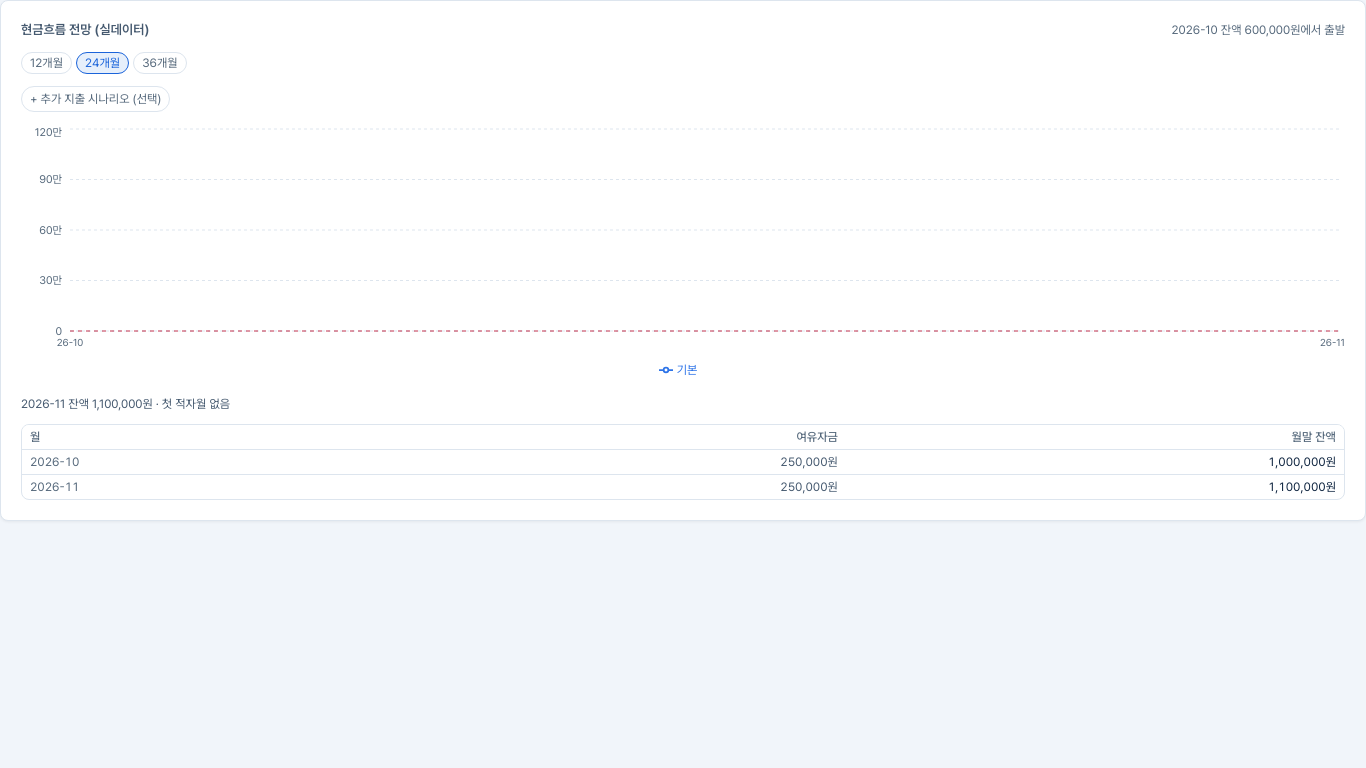
AdvisorProjectionChart › 기간 버튼과 범용 추가 지출 시나리오(이름·금액·개월)가 요청에 실린다
Expected: the text "2026-11 잔액 1,100,000원 · 첫 적자월 없음" is shown, x1=21 y1=397 x2=230 y2=411
Click the button "36개월" at (160, 63), box x1=133 y1=52 x2=187 y2=74
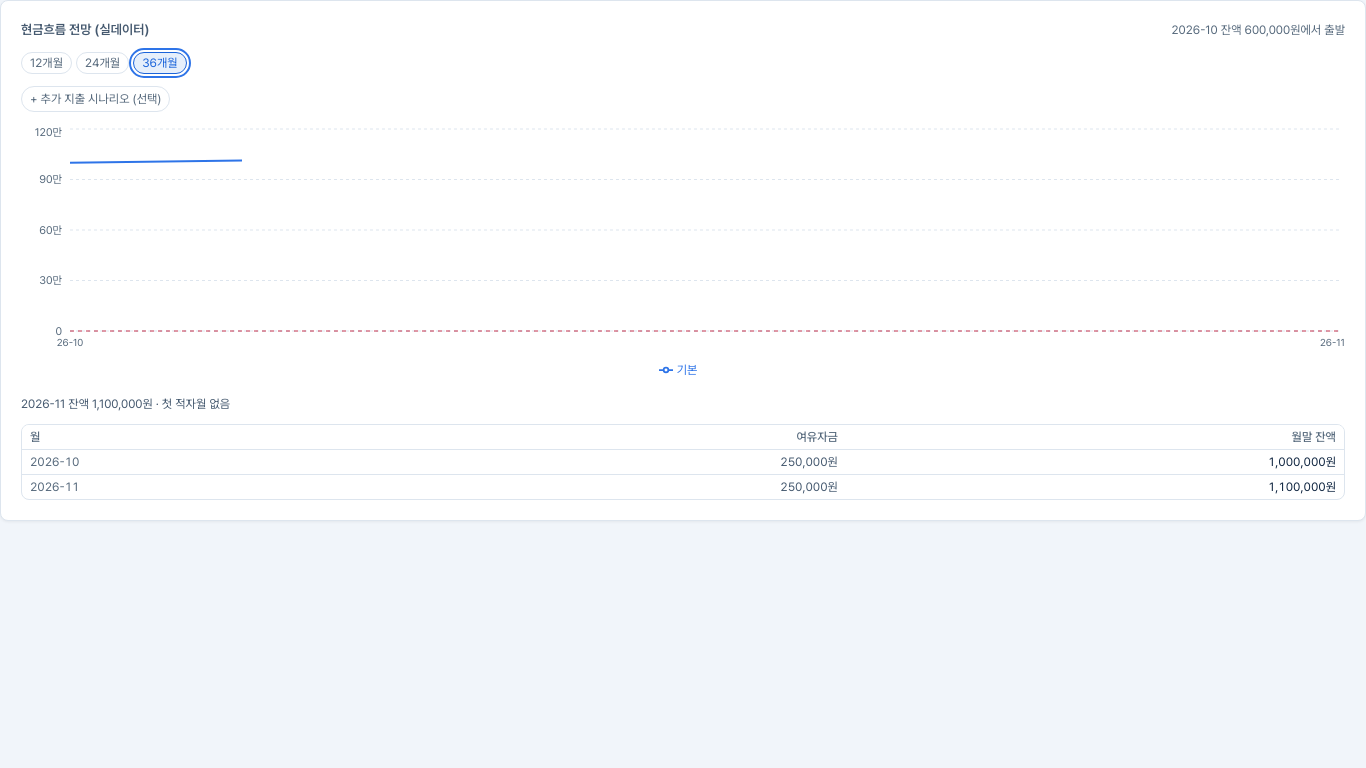
Click the button "+ 추가 지출 시나리오 (선택)" at (96, 99), box x1=21 y1=86 x2=170 y2=112
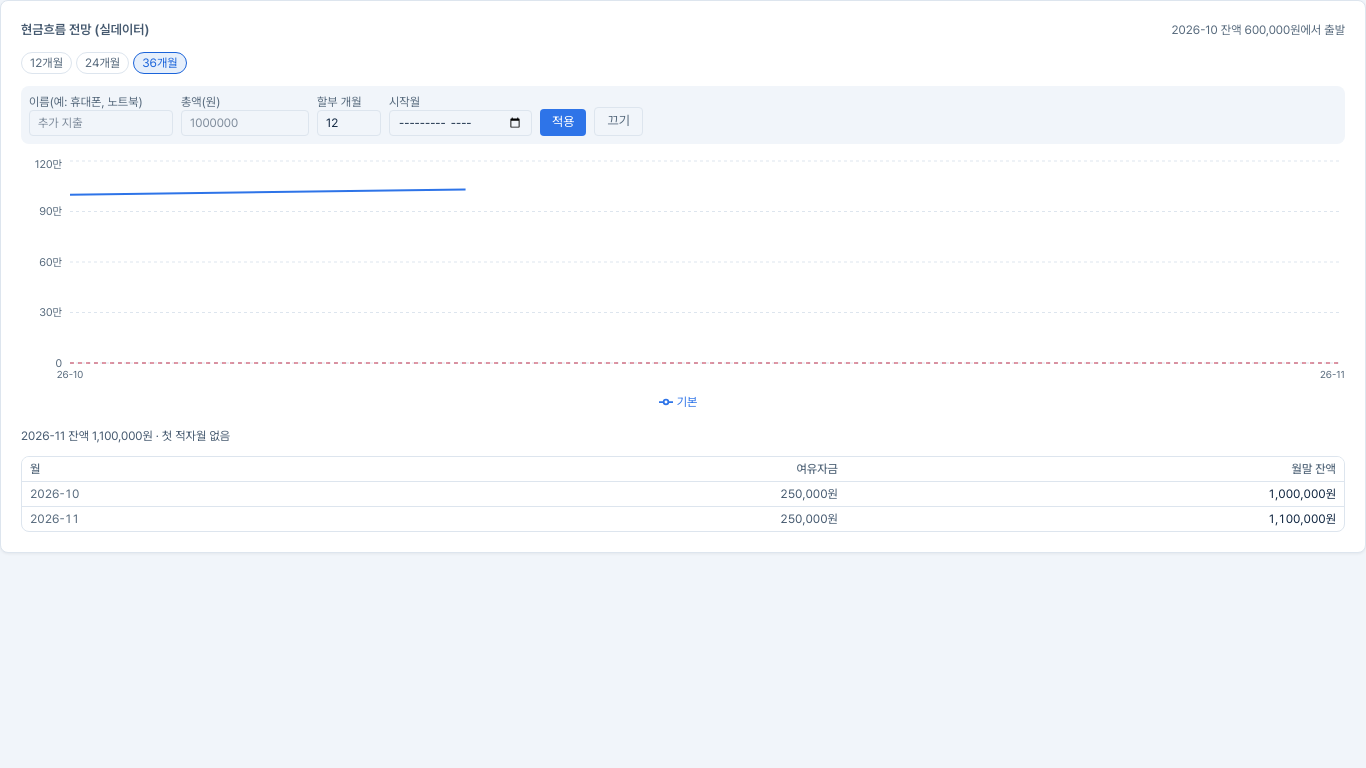
Type "노트북" into the field with placeholder "추가 지출" at (101, 123), box x1=29 y1=110 x2=173 y2=136
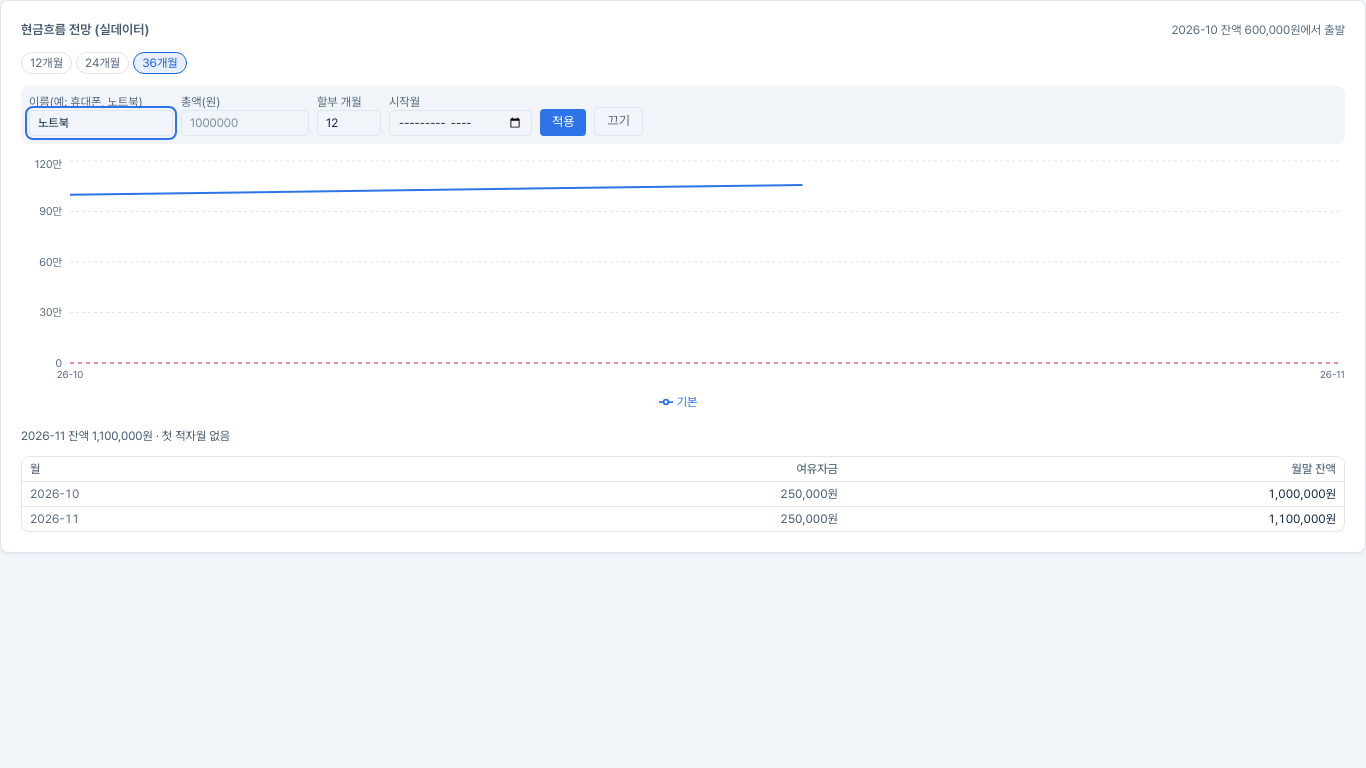
Type "2400000" into the field with placeholder "1000000" at (245, 123), box x1=181 y1=110 x2=309 y2=136
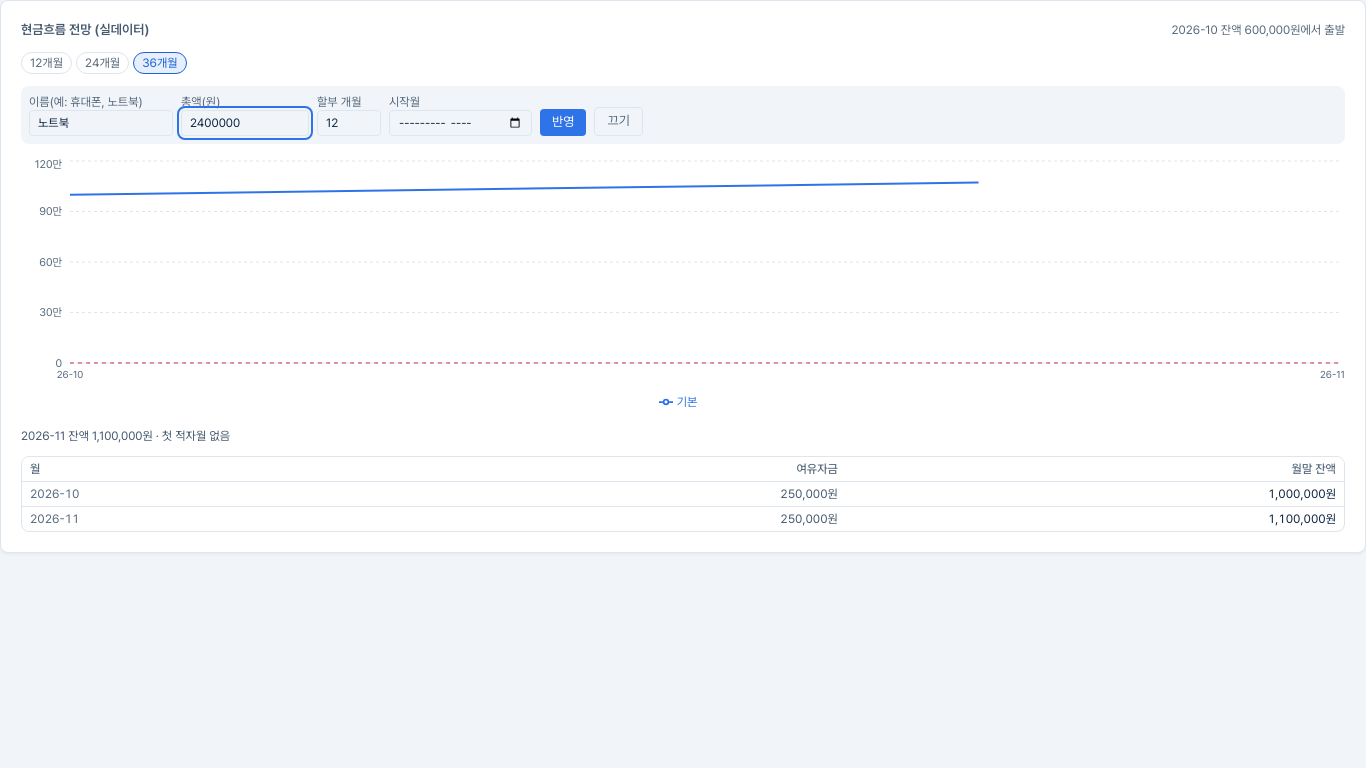
Click the button "반영" at (563, 122), box x1=540 y1=109 x2=586 y2=136
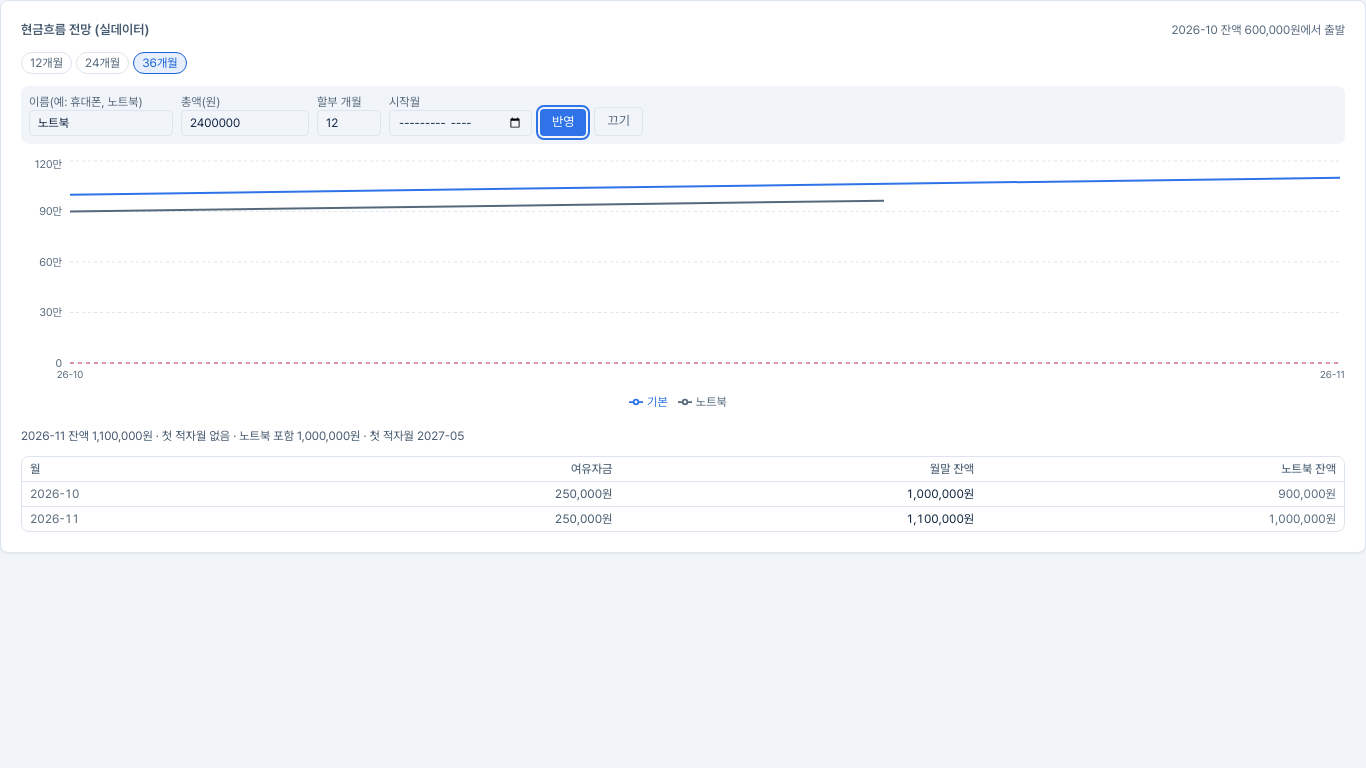
Expected: the text with test id "projection-summary" shows "노트북 포함", x1=21 y1=429 x2=464 y2=443
Expected: the table with test id "projection-table" shows "노트북 잔액", x1=22 y1=457 x2=1344 y2=531
